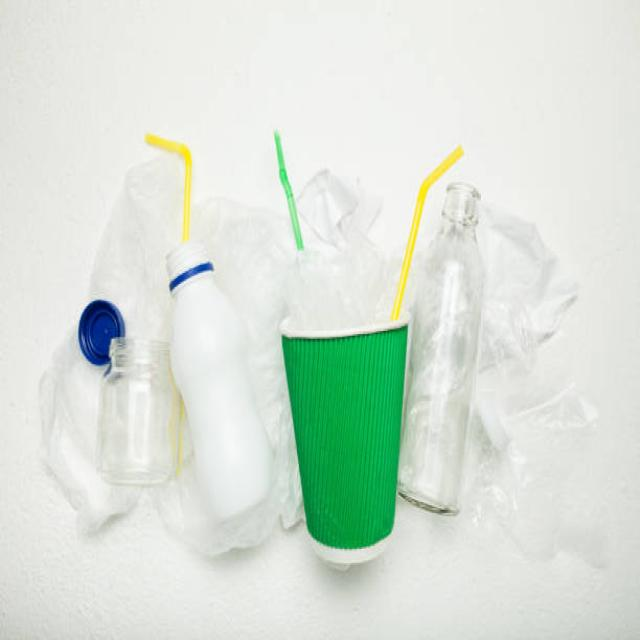cardboard: (281, 323, 415, 551)
glass: (418, 183, 491, 544)
plastic: (71, 152, 268, 529)
